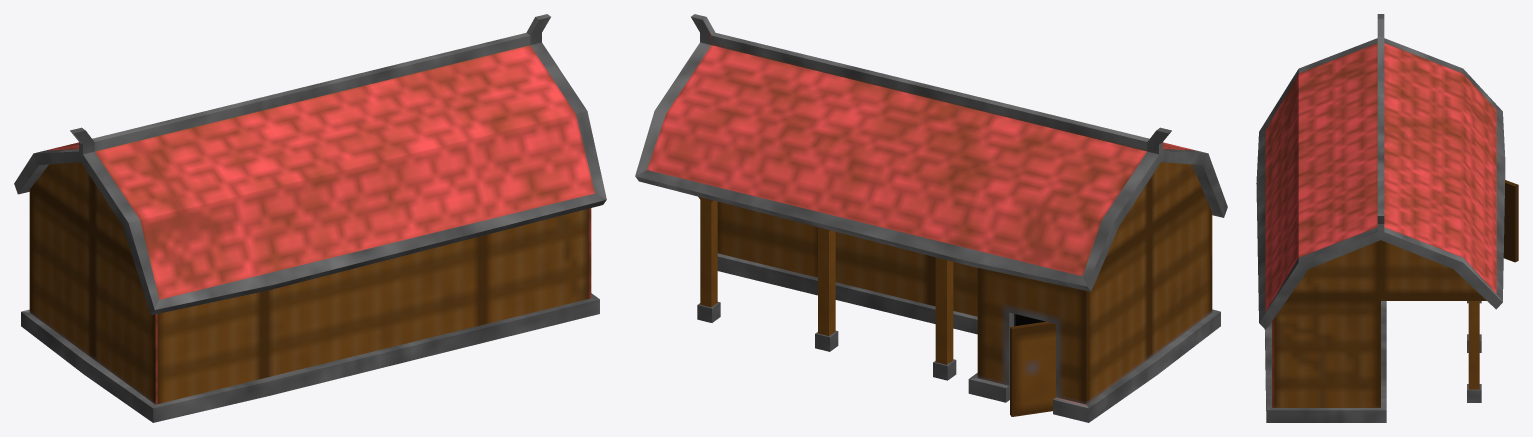
The model's file is Med Barn.fbx.
3 views of the same model, side by side, from view 1: azimuth 30°, elevation 25°; view 2: azimuth 150°, elevation 25°; view 3: azimuth 270°, elevation 25° (orthographic). The views are drawn at different scales.
Parts seen in each view (by area): view 1: Cube; view 2: Cube, Cube.002, Cube.001; view 3: Cube, Cube.002, Cube.001.
Part boxes in pixels (x1,y1,x2,y2): Cube: (14,14,606,422); Cube: (635,14,1227,422); Cube.002: (697,196,956,380); Cube.001: (1010,321,1055,416); Cube: (1256,14,1505,422); Cube.002: (1467,301,1481,402); Cube.001: (1503,180,1518,262).
Bounding box in the file's own units: 481 × 877 × 432.
